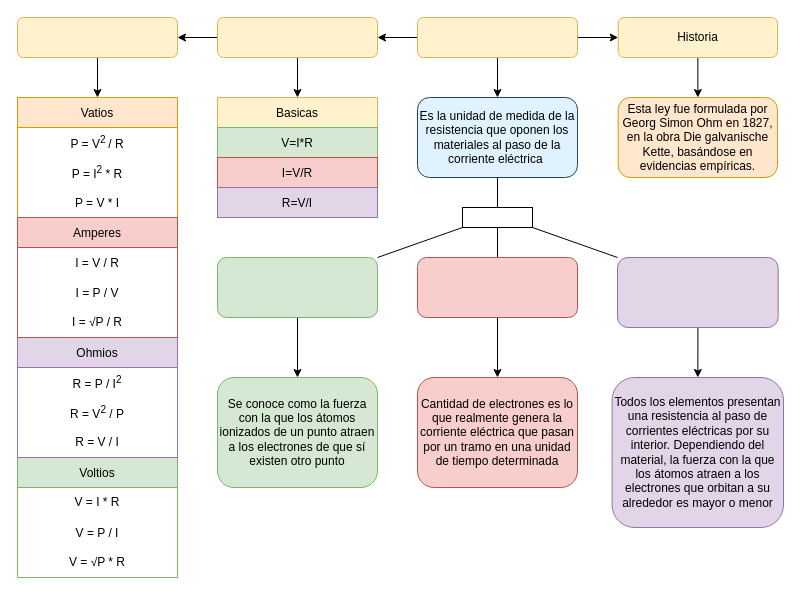
The diagram is 801 pixels wide and 595 high, and some of its shapes have lost their labels. The shapes that lost their labels are listed below. From the top down, each one's centre as x and y in pixels, then its label:
point 97,37: Avanzadas
point 297,37: Fórmulas
point 497,37: Ley de Ohm
point 497,217: Como son:
point 297,287: Tensión o voltaje, en volt (V)
point 497,287: Intensidad de la corriente "I", en ampere (A)
point 697,292: Resistencia "R" en ohm de la carga o consumidor conectado al circuito
